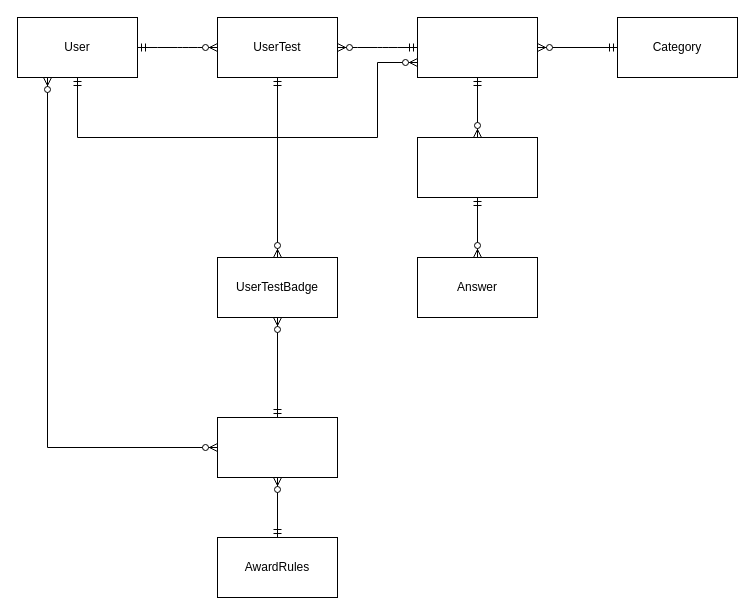
The diagram is 755 pixels wide and 615 high, and some of its shapes have lost their labels. Each missing label, with the centre of its shape:
"Badge" goes at point 277,447.
"Question" goes at point 477,167.
"Test" goes at point 477,47.
